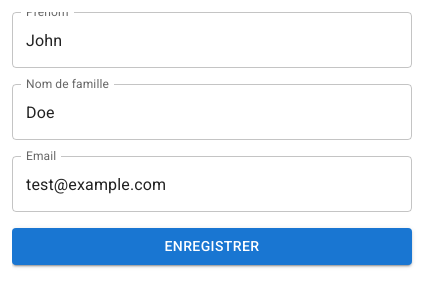
UserInfoForm › devrait afficher un message d'erreur si le nom est vide
Clear the field labelled "Nom de famille": [212, 112] box [12,84,412,140]
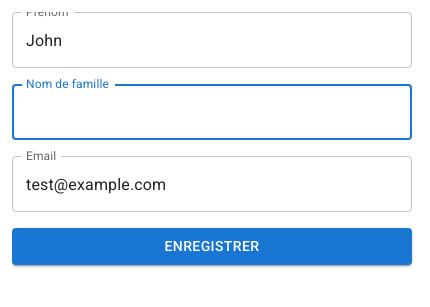
Click the button "Enregistrer": [212, 246] box [12,228,412,264]
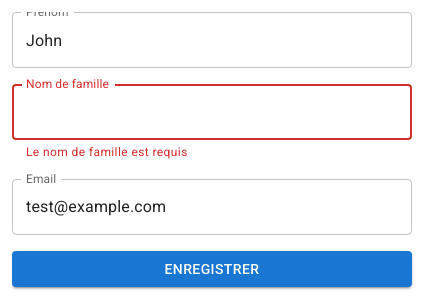
Now the text "Le nom de famille est requis" is shown, box [26,145,188,159]
